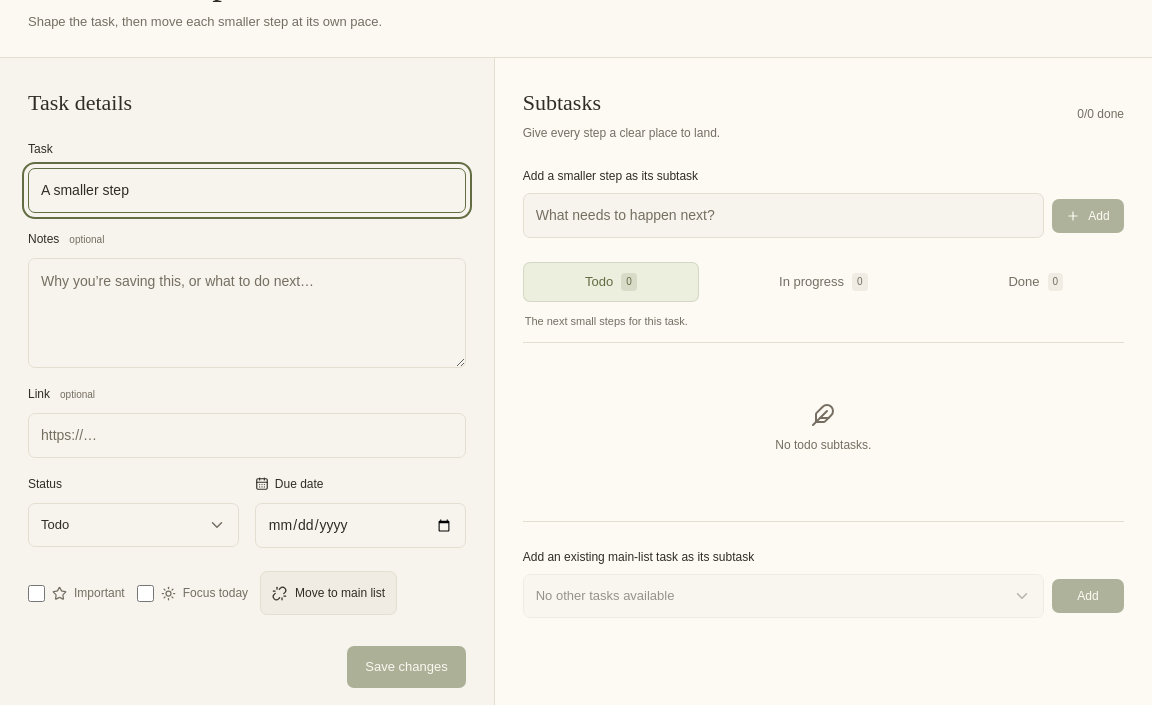
moves an open subtask to the main list from its detail form
The width and height of the screenshot is (1152, 705).
(page scrolled)
Click the button "Move to main list" at (329, 593), box [260,571,397,615]
(page scrolled)
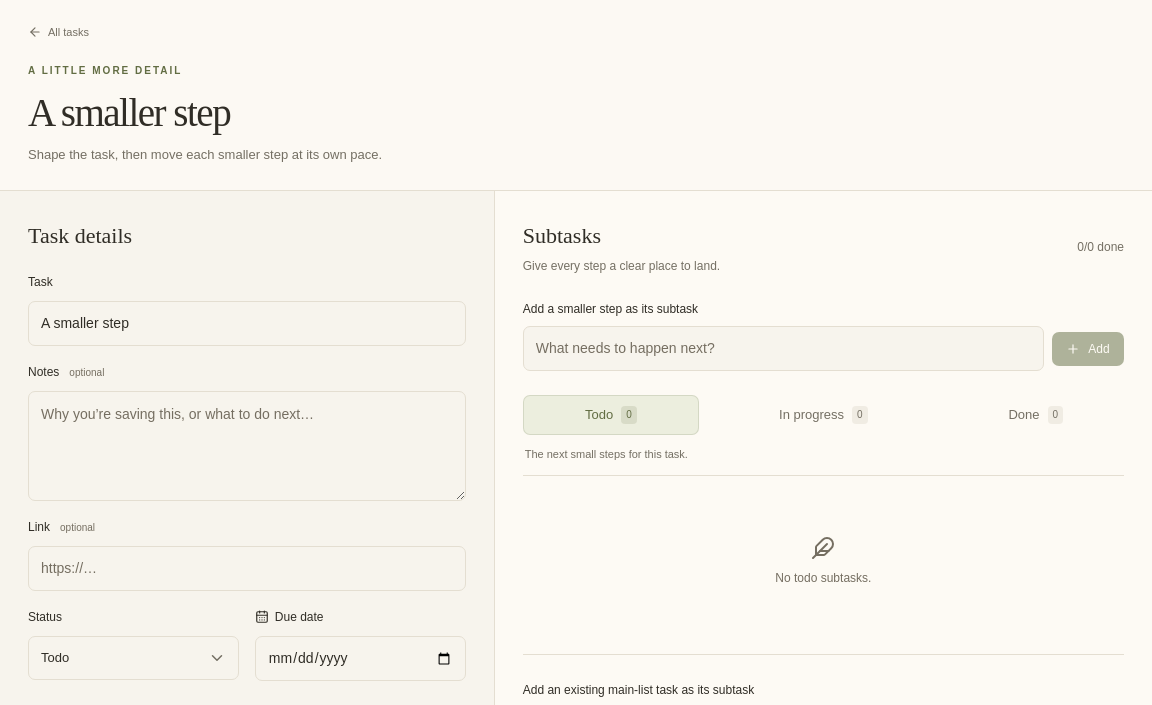
expect the heading "A smaller step" is shown: met, box [28,90,230,134]
expect the button "Move to main list" is gone: met
